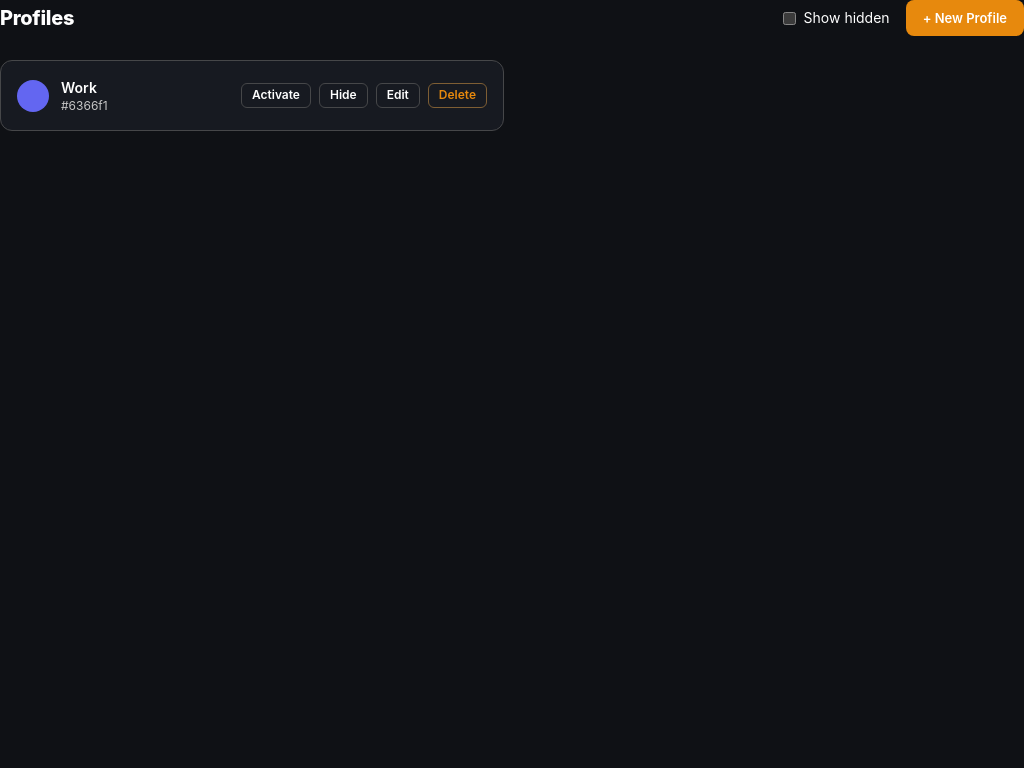
it: Profiles page › + New Profile opens create modal
The image size is (1024, 768).
Click the button "+ New Profile". click: (965, 18)
box: [906,0,1023,36]
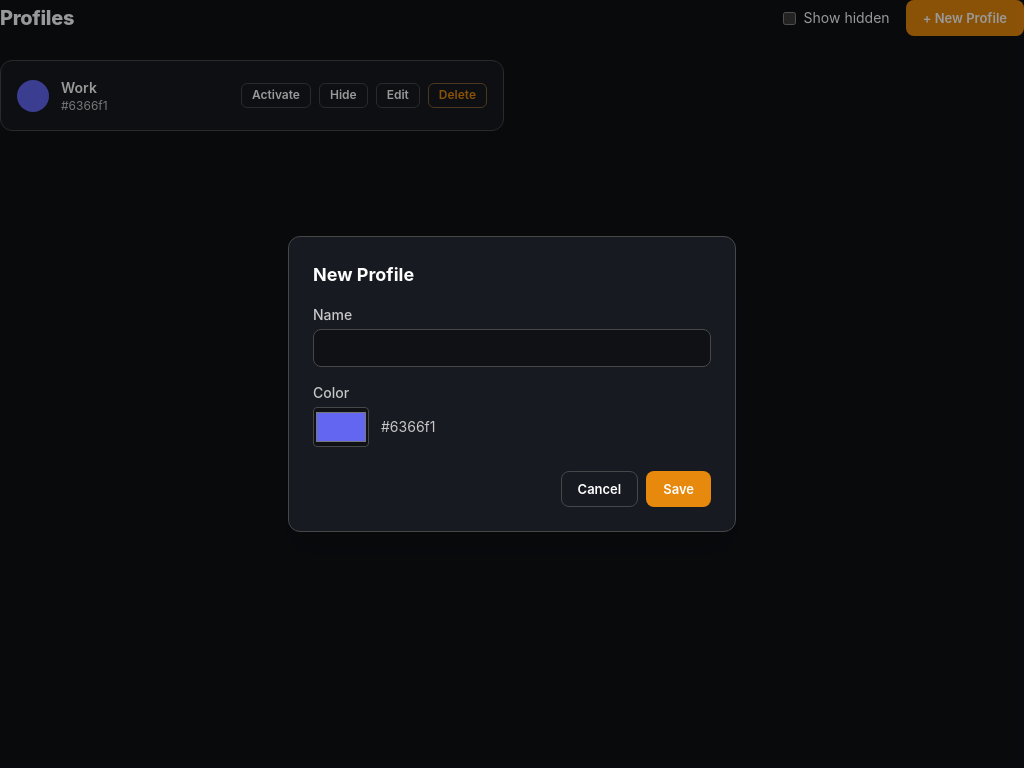
Expected: the heading "New Profile" is shown, [313,264,414,285]
